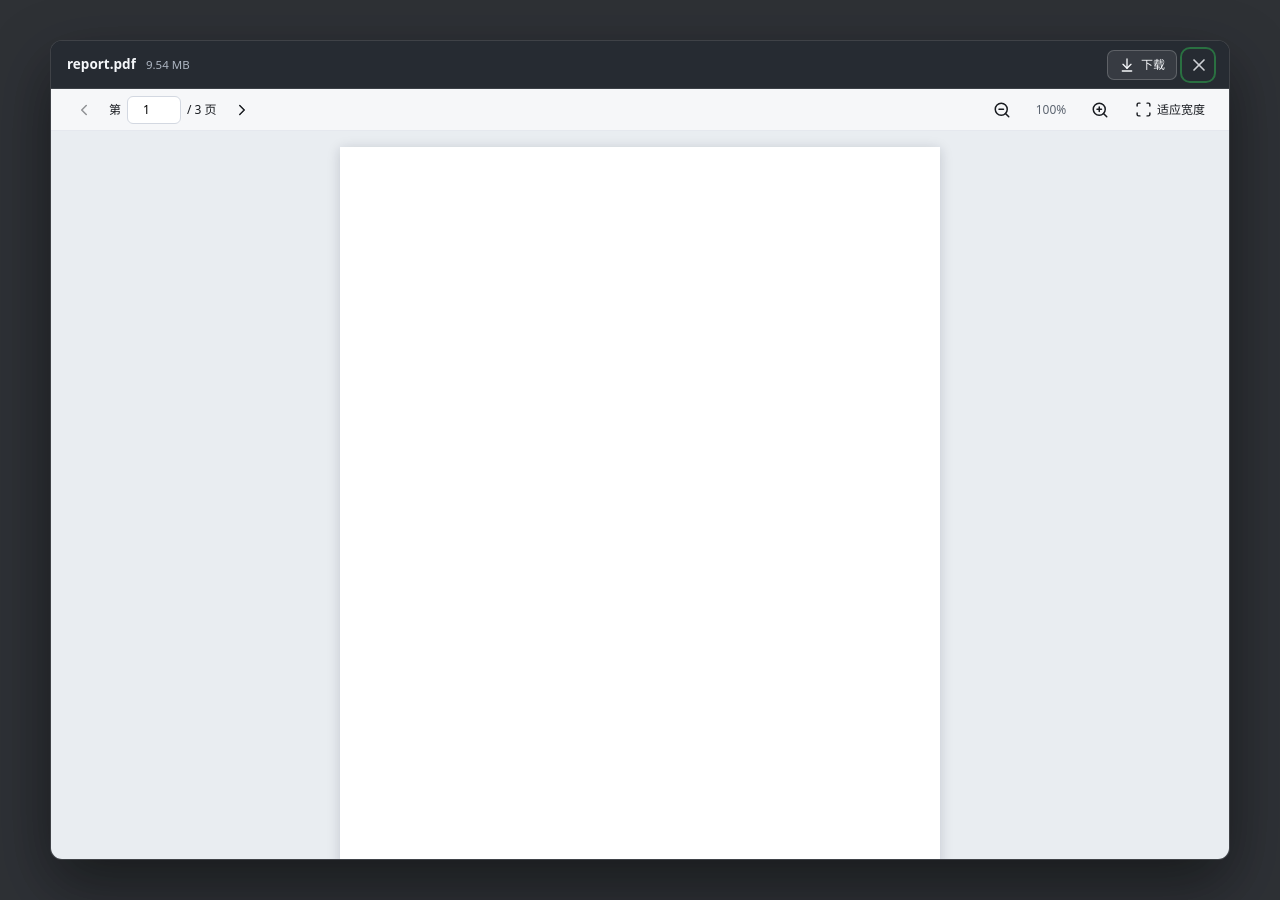
it: FilePreviewModal › pages and zooms a PDF through the range-backed document
What coordinates should you click on to do the following:
click the button named "下一页"
I would click on:
 (242, 110)
Its box is [223, 96, 261, 124].
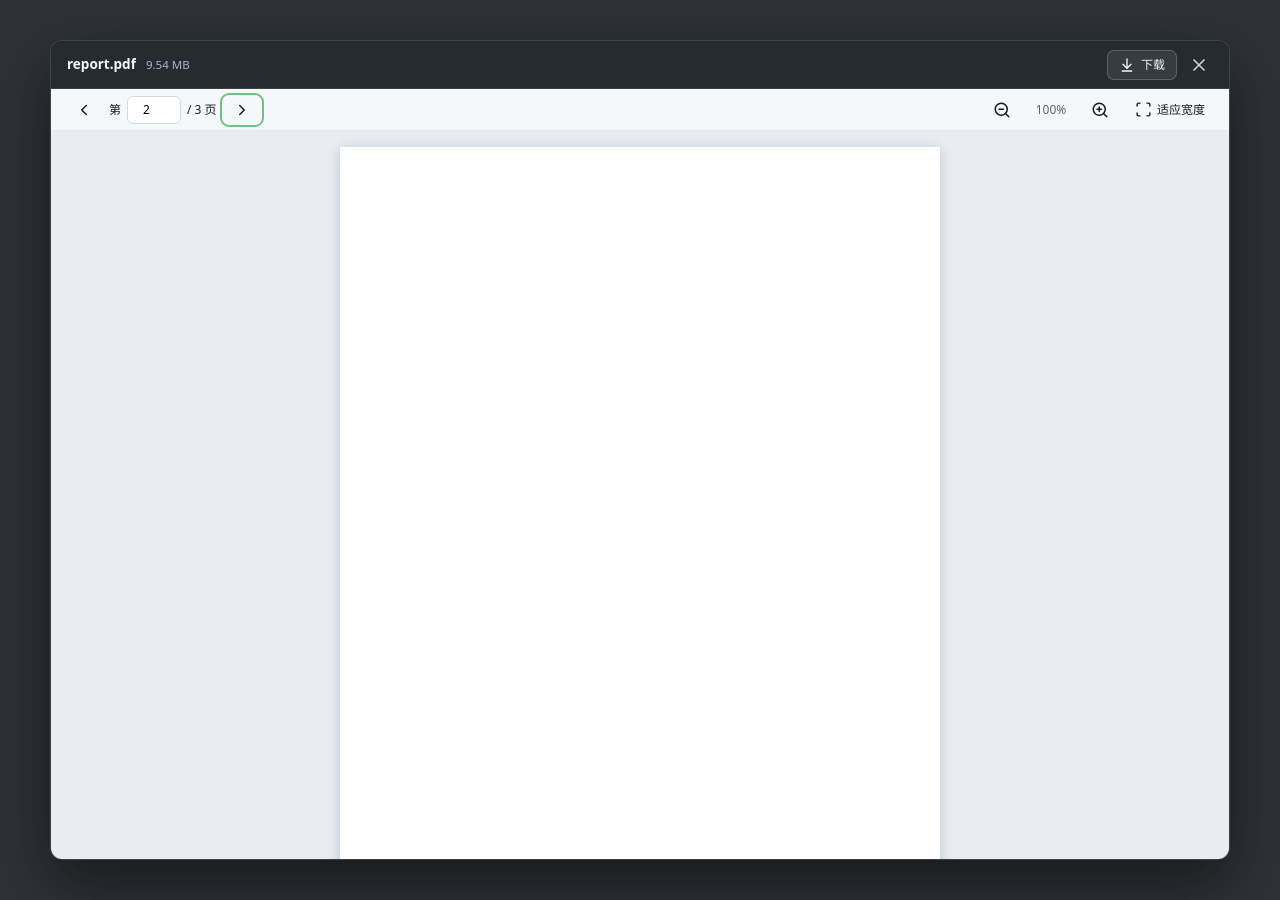
What coordinates should you click on to do the following:
click the button named "放大"
I would click on:
 (1100, 110)
Its box is [1081, 96, 1119, 124].
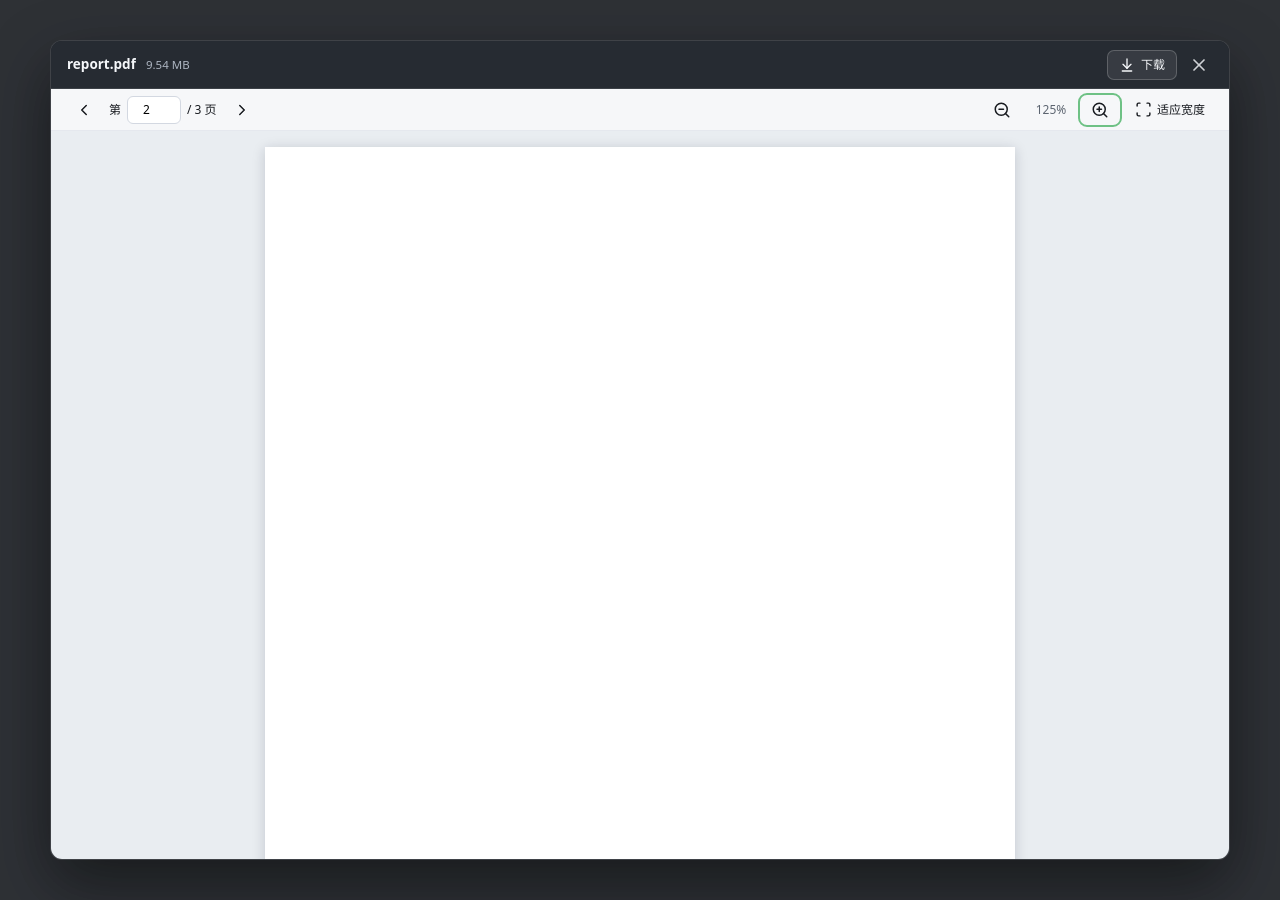
expect the drawing named "PDF 第 2 页" is shown: met, box [265, 147, 1015, 859]
expect the text "125%" is shown: met, box [1036, 100, 1066, 118]
